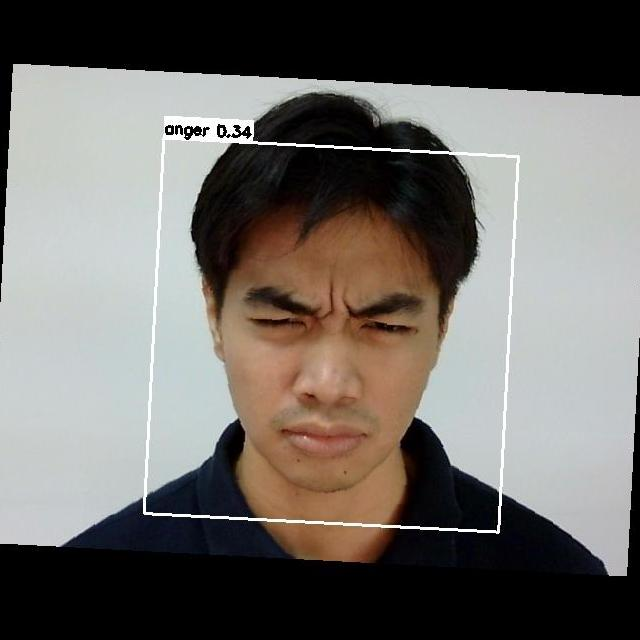Angry: (203, 241, 445, 468)
